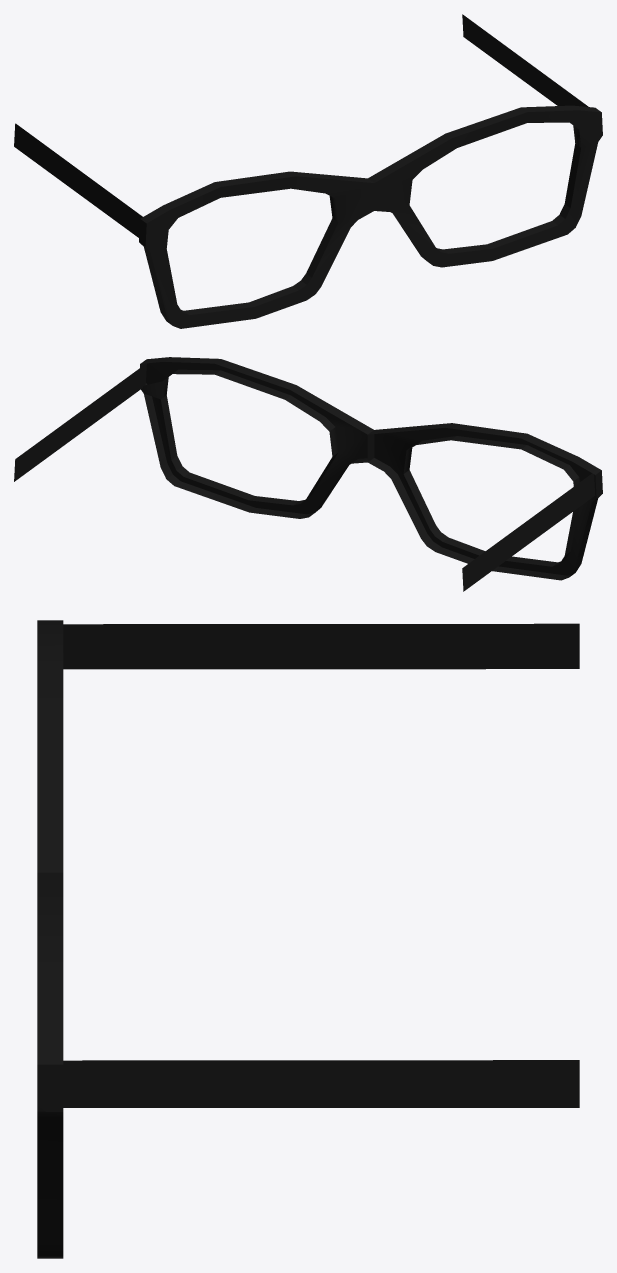
The model's file is acc_face0015.fbx.
The picture shows the model from 3 angles, top to bottom: view 1: azimuth 30°, elevation 25°; view 2: azimuth 150°, elevation 25°; view 3: azimuth 270°, elevation 25°; orthographic projection. The views are drawn at different scales.
Visible parts, largest first — view 1: acc_face0015_m; view 2: acc_face0015_m; view 3: acc_face0015_m.
Part boxes in pixels (bbox=[...]): acc_face0015_m: bbox=[14, 14, 602, 328]; acc_face0015_m: bbox=[14, 357, 602, 591]; acc_face0015_m: bbox=[37, 620, 579, 1258].
Bounding box in the file's own units: 0.2006 × 0.0588 × 0.1029.
